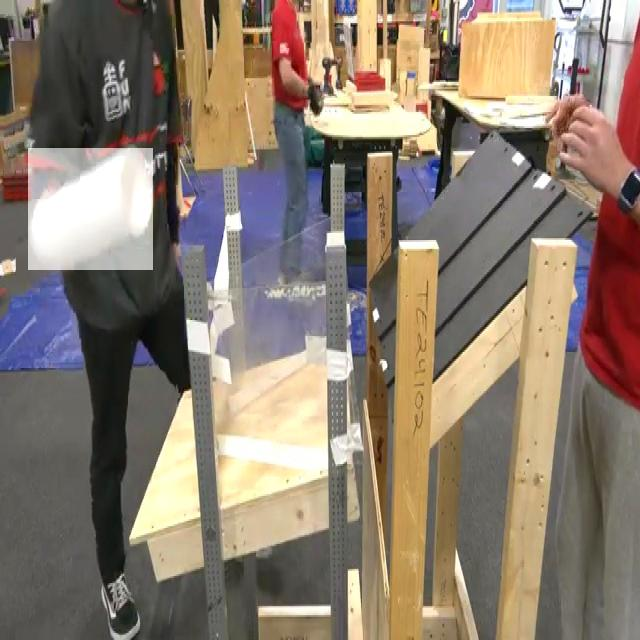Coral: (28, 148, 153, 270)
